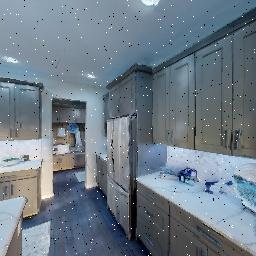door-frame: (49, 92, 93, 200)
